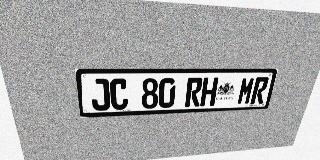0: (158, 78, 176, 108)
8: (141, 78, 159, 109)
C: (109, 78, 128, 110)
H: (200, 77, 219, 106)
J: (90, 79, 110, 111)
M: (236, 77, 256, 105)
R: (250, 77, 270, 104), (185, 78, 203, 107)
